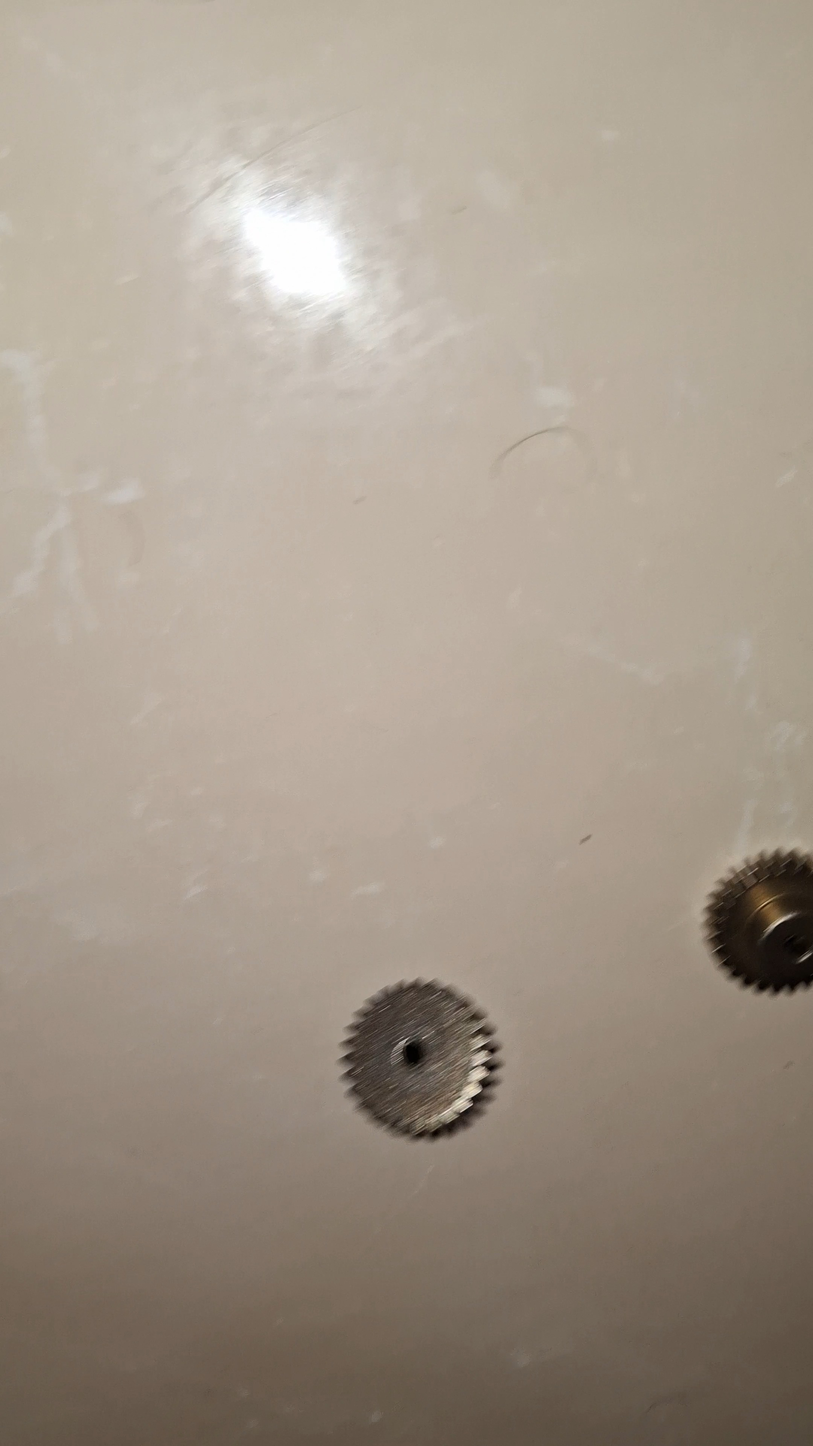spur gear: (343, 980, 496, 1136), (706, 851, 813, 993)
